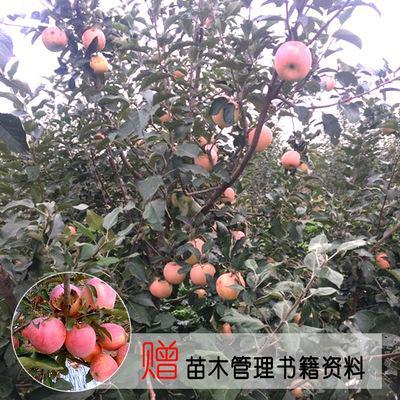apple: (273, 40, 311, 81), (28, 316, 67, 354), (81, 278, 115, 313), (64, 322, 96, 358), (91, 354, 119, 383), (97, 323, 127, 350), (216, 273, 245, 300), (248, 124, 272, 152), (41, 25, 66, 51), (81, 27, 105, 54), (162, 260, 188, 284), (190, 262, 216, 285), (148, 277, 172, 298), (89, 52, 108, 74), (281, 149, 300, 170)
